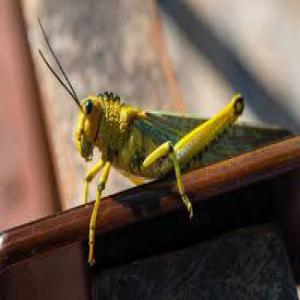locust: (37, 40, 284, 201)
